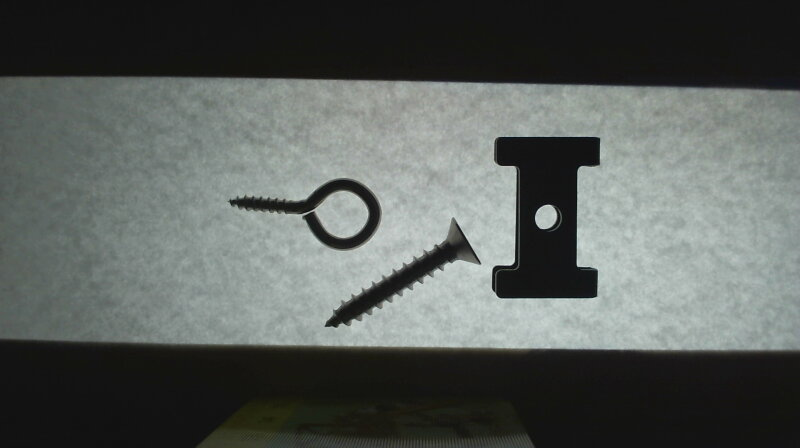O001: (224, 175, 382, 255)
O002: (490, 132, 606, 302)
S001: (322, 213, 482, 330)
